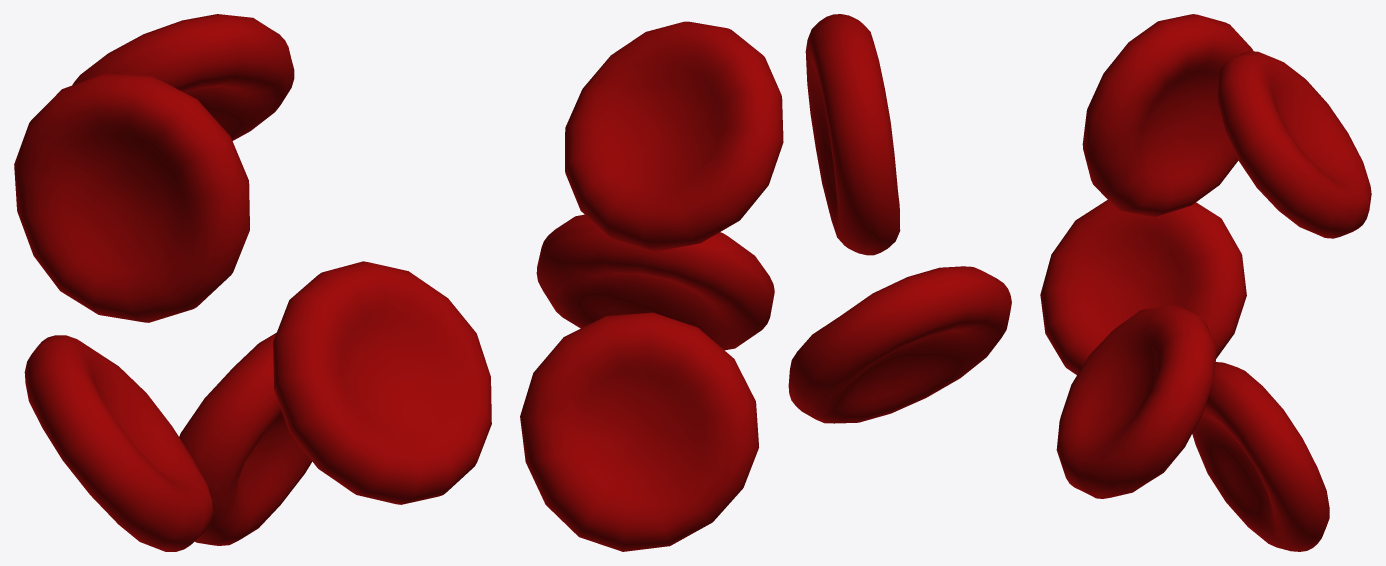
Rendered from Red_Blood_Cell.obj.
The picture shows the model from 3 angles, left to right: view 1: azimuth 30°, elevation 25°; view 2: azimuth 150°, elevation 25°; view 3: azimuth 270°, elevation 25°; orthographic projection. The views are drawn at different scales.
Parts seen in each view (by area): view 1: red_blood_cell_pivot; view 2: red_blood_cell_pivot; view 3: red_blood_cell_pivot.
Part boxes in pixels (left/top/right/bottom): red_blood_cell_pivot: left=14, top=14, right=491, bottom=551; red_blood_cell_pivot: left=520, top=14, right=1011, bottom=551; red_blood_cell_pivot: left=1040, top=14, right=1371, bottom=551.
Bounding box in the file's own units: 1.68 × 1.92 × 1.25.
